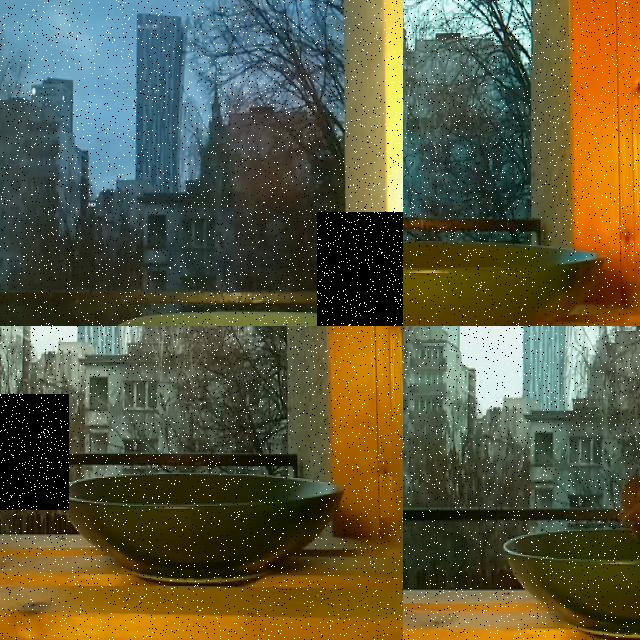Bogatka: (317, 212, 403, 326), (0, 394, 69, 510)
Wrobel: (618, 472, 640, 537)
